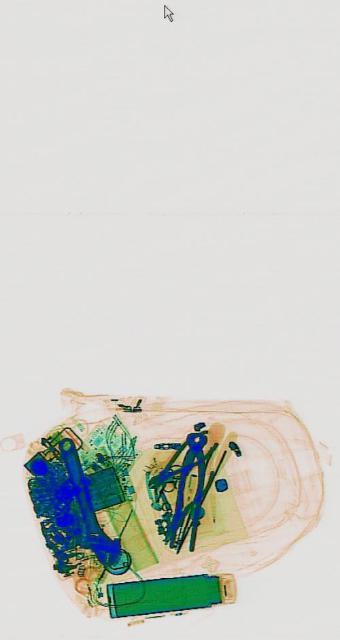Pliers: (165, 424, 209, 558), (143, 422, 211, 500)
Wrench: (47, 420, 122, 584)
